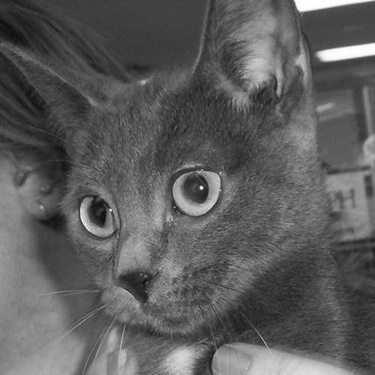cat: (5, 3, 362, 365)
